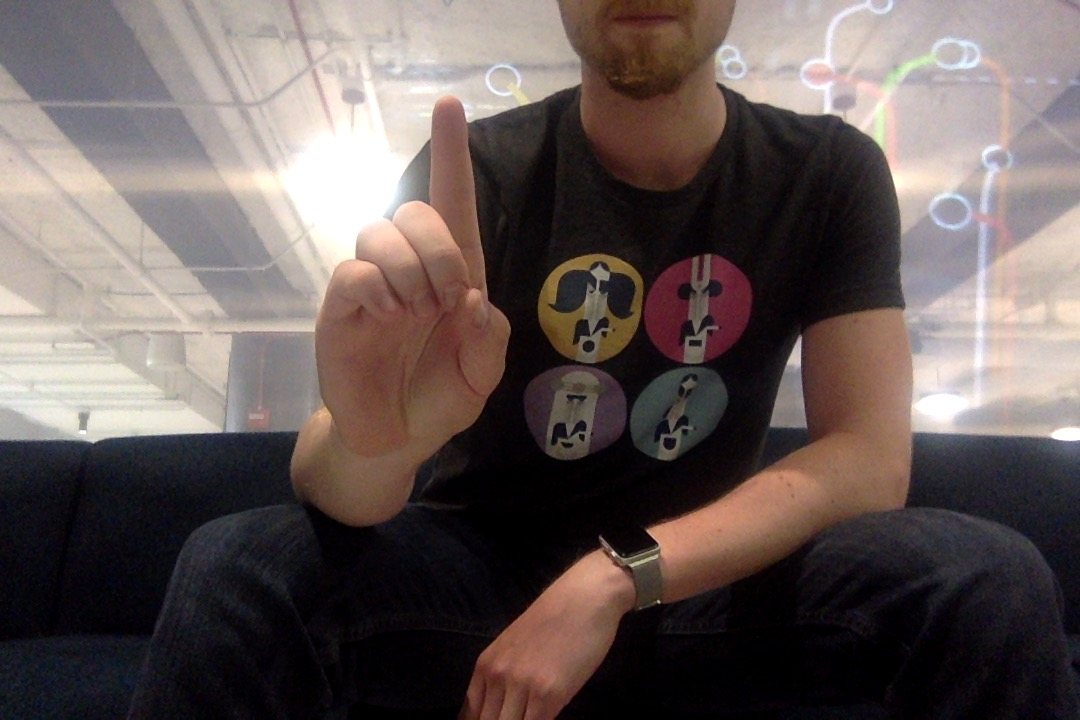d: (308, 92, 517, 467)
